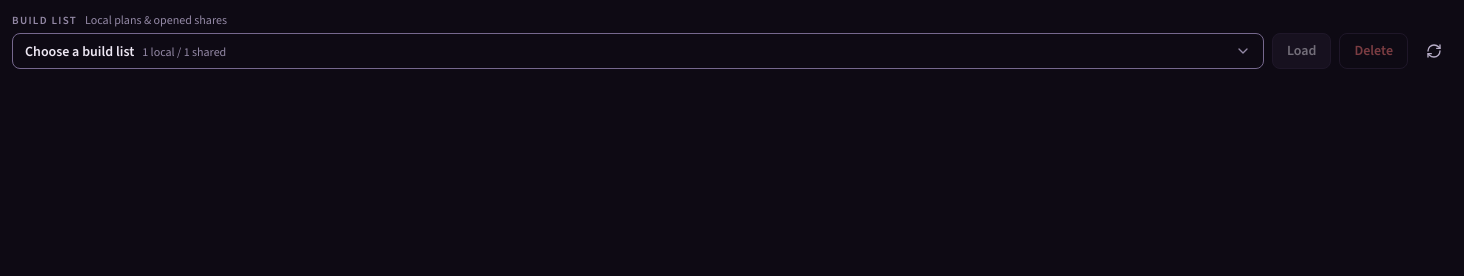
Test: BuildListSelector › distinguishes owned and shared cached lists
What coordinates should you click on to do the following:
click the button with aria-label "select build list"
I would click on:
 (80, 51)
Its box is [12,33,1264,69].
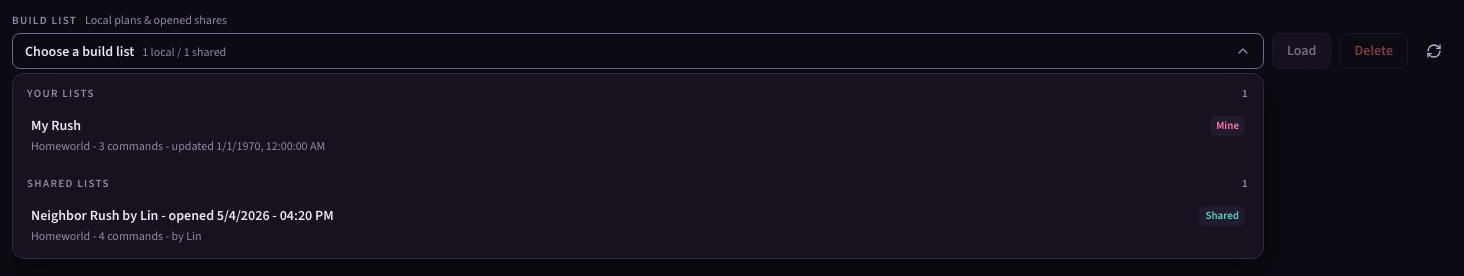
Expected: the text "Local plans & opened shares" is shown, [85,12,227,28]
Expected: the option "My Rush" is shown, [19,108,1257,162]
Expected: the text "Neighbor Rush by Lin - opened 5/4/2026 - 04:20 PM" is shown, [31,206,334,226]
